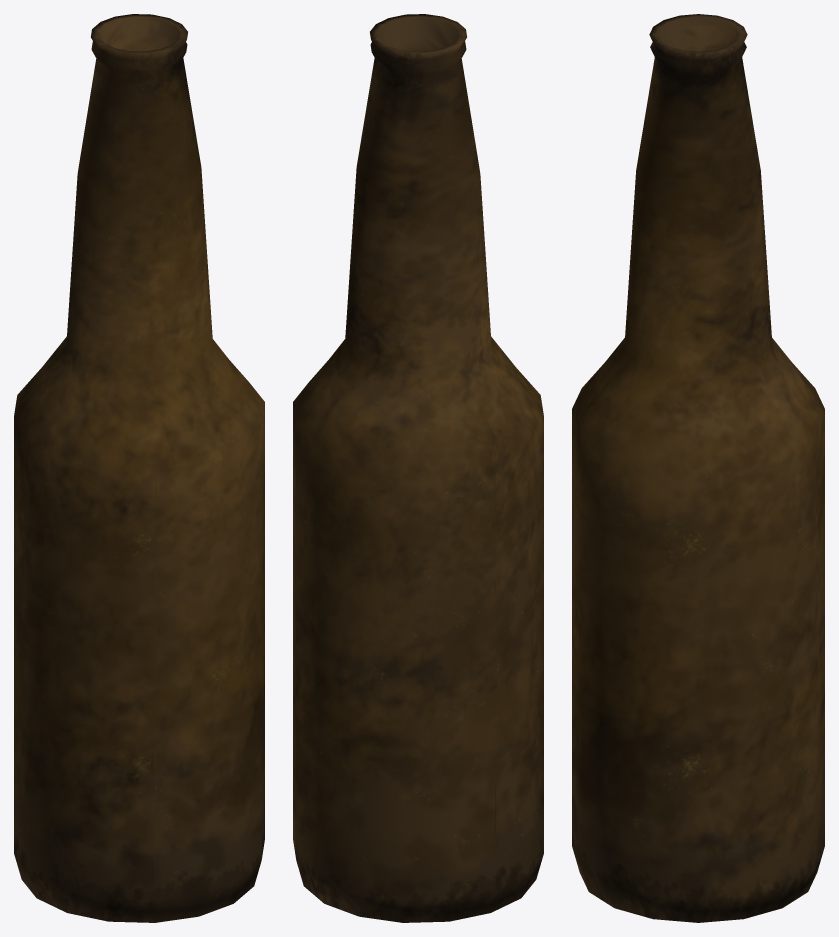
3 views of the same model, side by side, from view 1: azimuth 30°, elevation 25°; view 2: azimuth 150°, elevation 25°; view 3: azimuth 270°, elevation 25° (orthographic).
Parts seen in each view (by area): view 1: beer.009; view 2: beer.009; view 3: beer.009.
Boxes of the visible parts, <box> form: beer.009: <box>14,14,264,922</box>; beer.009: <box>293,14,543,922</box>; beer.009: <box>572,14,824,922</box>.
Size of the model in its own units: 0.1905 by 0.6966 by 0.1905.
Materials: 1 (1 with a texture image).
